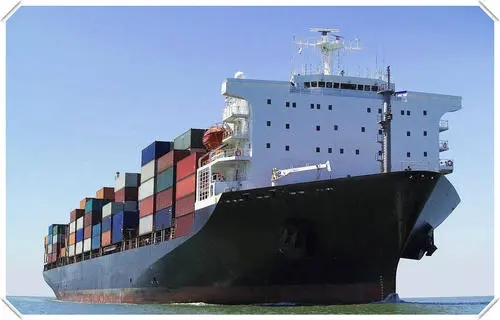Cargoship: (40, 20, 466, 301)
